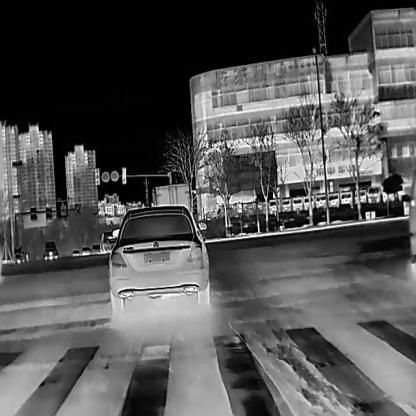car: (107, 203, 209, 311), (99, 229, 119, 254), (43, 240, 58, 259), (80, 245, 91, 256), (90, 242, 100, 254), (70, 249, 80, 256)
truck: (152, 180, 191, 221)
